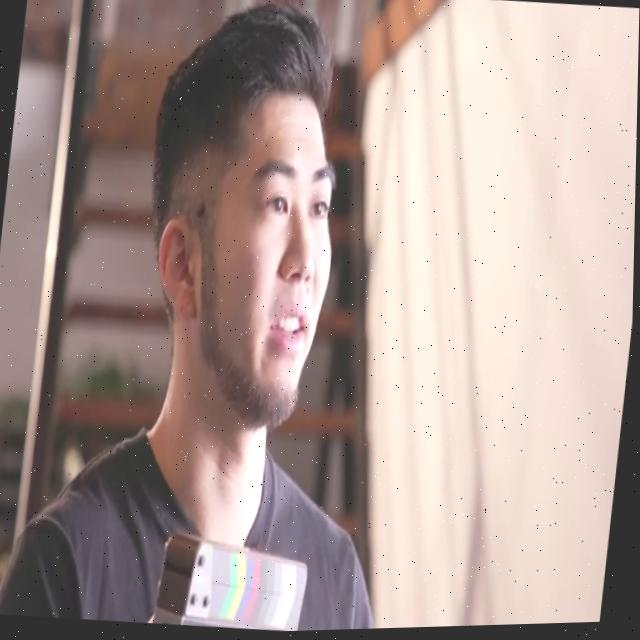Clapperboard: (151, 516, 312, 635)
